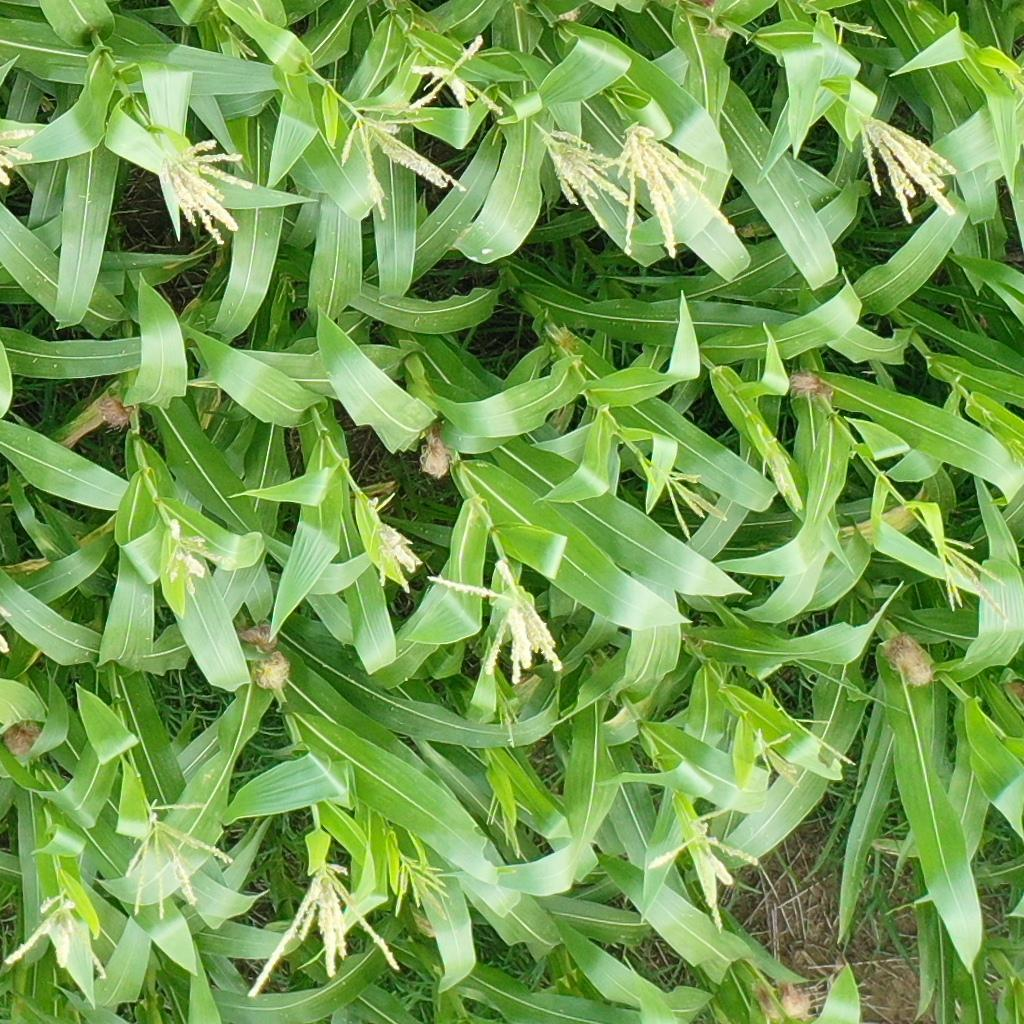Tassel: (249, 864, 403, 1006), (616, 121, 743, 262), (429, 558, 565, 685), (643, 797, 761, 933), (339, 103, 469, 223), (851, 110, 963, 227), (124, 800, 233, 919), (160, 138, 256, 249), (6, 889, 109, 985), (403, 33, 507, 117), (930, 532, 1012, 624), (541, 128, 636, 206), (364, 492, 422, 596), (662, 469, 728, 540), (162, 518, 224, 593), (388, 849, 448, 915), (755, 428, 801, 511), (793, 712, 858, 765), (751, 729, 801, 789), (485, 793, 530, 859), (1, 130, 37, 185), (493, 690, 522, 747), (833, 16, 891, 44), (1002, 71, 1024, 95), (1009, 439, 1024, 467)
